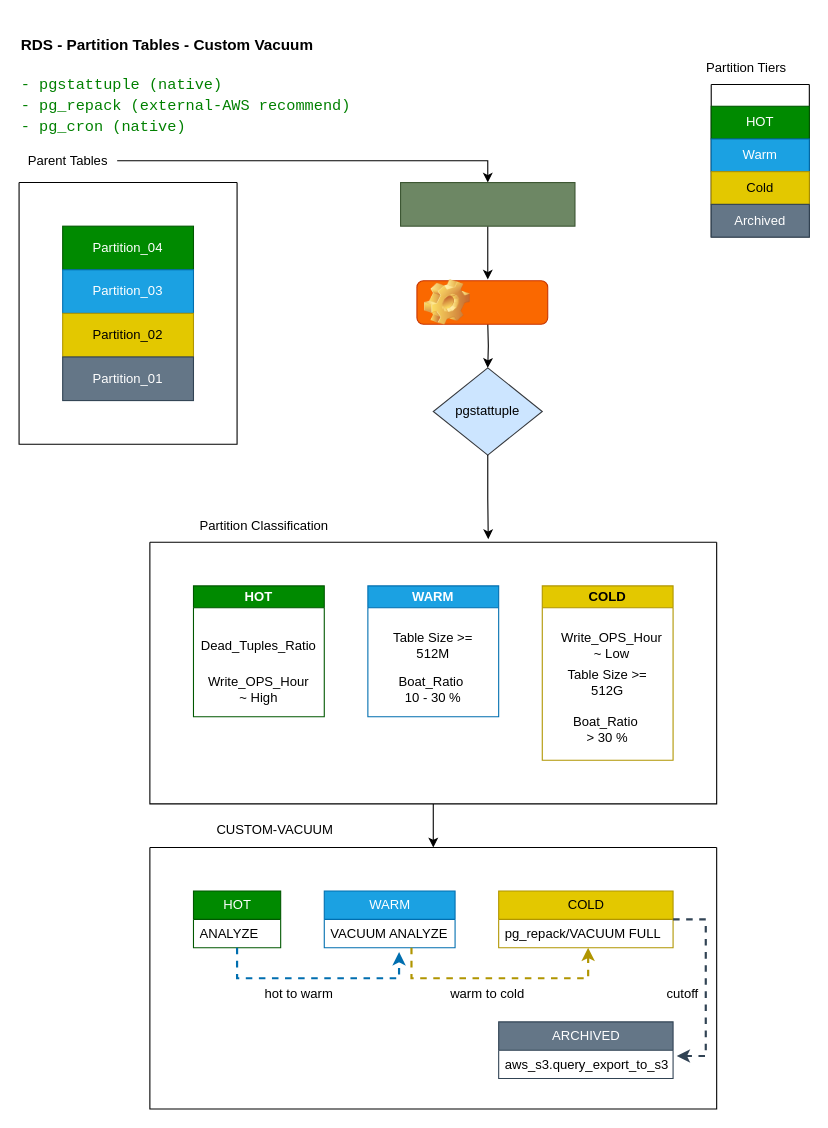
The diagram is 828 pixels wide and 1128 high, and some of its shapes have lost their labels. The shapes that lost their labels are listed below. From the top down, each one's centre as x and y in pixels, then its label:
At point 487,203: "AUTOVACUUM=OFF".
At point 482,302: "pg_cron".
